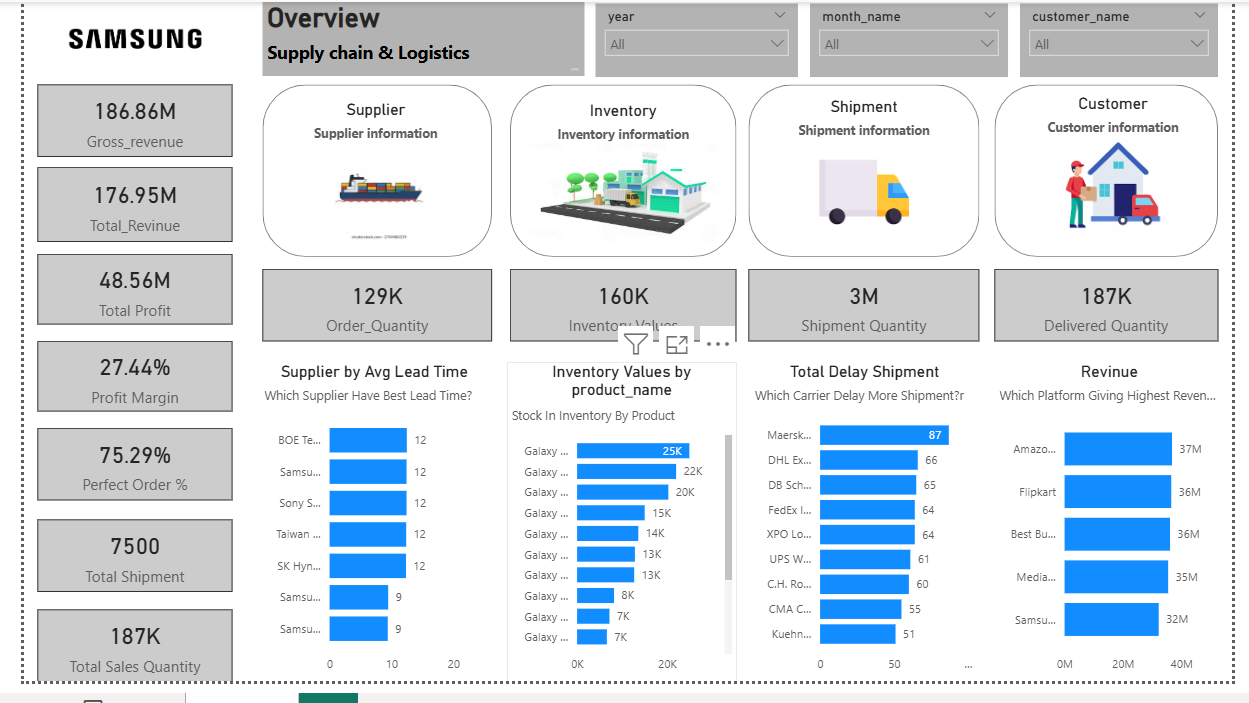

Layout of this report page (visuals, bound fields, positions):
{"tool":"powerbi","page":{"name":"Page 1","canvas":[1280,720],"ordinal":0},"visuals":[{"type":"shape","box":[252.9,87.5,243.4,182.9],"z":0},{"type":"shape","box":[515.4,87.5,240.2,182.9],"z":1000},{"type":"shape","box":[768.3,87.5,245,182.9],"z":2000},{"type":"shape","box":[1029.1,87.5,237,182.9],"z":3000},{"type":"image","box":[278.4,143.2,197.2,114.5],"z":4000},{"type":"image","box":[531.3,143.2,208.4,119.3],"z":5000},{"type":"image","box":[796.9,140,186.1,122.5],"z":6000},{"type":"image","box":[1043.4,133.6,222.7,120.9],"z":7000},{"type":"textbox","box":[157.5,381.7,151.1,36.6],"z":8000},{"type":"textbox","title":"Supplier","box":[279.9,103.4,186.1,42.9],"z":9000},{"type":"textbox","title":"Inventory","box":[547.2,105,176.6,42.9],"z":10000},{"type":"textbox","title":"Shipment","box":[798.5,100.2,184.5,42.9],"z":11000},{"type":"textbox","title":"Customer","box":[1067.3,97,175,42.9],"z":12000},{"type":"textbox","title":"Overview","box":[252.9,0,340.4,77.9],"z":13000},{"type":"image","box":[14.3,0,206.8,77.9],"z":14000},{"type":"card","fields":{"Values":["Sum(fact_sales.gross_revenue)"]},"box":[14.3,87.5,206.8,76.3],"z":15000},{"type":"card","fields":{"Values":["fact_sales.Total_Revinue"]},"box":[14.3,175,206.8,79.5],"z":16000},{"type":"card","fields":{"Values":["fact_sales.Total Profit"]},"box":[14.3,267.2,206.8,74.8],"z":17000},{"type":"card","fields":{"Values":["fact_sales.Profit Margin"]},"box":[14.3,359.5,206.8,74.8],"z":18000},{"type":"card","fields":{"Values":["fact_sales.Perfect Order %"]},"box":[14.3,451.7,206.8,76.3],"z":19000},{"type":"card","fields":{"Values":["fact_sales.Total Shipment"]},"box":[14.3,548.8,206.8,76.3],"z":20000},{"type":"card","fields":{"Values":["fact_sales.Total Sales Quantity"]},"box":[14.3,644.2,206.8,76.3],"z":21000},{"type":"card","fields":{"Values":["fact_sales.Order_Quantity"]},"box":[252.9,283.1,243.4,76.3],"z":22000},{"type":"card","fields":{"Values":["fact_sales.Inventory Values"]},"box":[515.4,283.1,240.2,76.3],"z":23000},{"type":"card","fields":{"Values":["Sum(fact_shipment.quantity)"]},"box":[768.3,283.1,245,76.3],"z":24000},{"type":"card","fields":{"Values":["fact_sales.Total Delivered Quantity"]},"box":[1029.1,283.1,237,76.3],"z":25000},{"type":"clusteredBarChart","title":"Supplier by Avg Lead Time","fields":{"Category":["dim_supplier.supplier_name"],"Y":["fact_sales.Avg Lead Time"]},"box":[249.7,381.7,243.4,338.8],"z":26000},{"type":"clusteredBarChart","fields":{"Y":["fact_sales.Inventory Values"],"Category":["dim_product.product_name"]},"box":[512.2,381.7,243.4,338.8],"z":27000},{"type":"clusteredBarChart","title":"Total Delay Shipment","fields":{"Y":["fact_sales.Total Delay"],"Category":["fact_shipment.carrier"]},"box":[769.9,381.7,243.4,338.8],"z":28000},{"type":"clusteredBarChart","title":"Revinue","fields":{"Category":["dim_customer.customer_name"],"Y":["fact_sales.Total_Revinue"]},"box":[1029.1,381.7,243.4,338.8],"z":29000},{"type":"slicer","fields":{"Values":["dim_date.year"]},"box":[606,1.6,214.7,77.9],"z":30000},{"type":"slicer","fields":{"Values":["dim_date.month_name"]},"box":[833.5,1.6,210,77.9],"z":31000},{"type":"slicer","fields":{"Values":["dim_customer.customer_name"]},"box":[1056.2,1.6,210,77.9],"z":32000}]}

Visuals, with their boxes in screenshot pixels (x1, y1, x2, y2), scaled from the page's 1280x720 canvas onto the 1249x703 screenshot:
shape: l=247, t=85, r=484, b=264
shape: l=503, t=85, r=737, b=264
shape: l=750, t=85, r=989, b=264
shape: l=1004, t=85, r=1235, b=264
image: l=272, t=140, r=464, b=252
image: l=518, t=140, r=722, b=256
image: l=778, t=137, r=959, b=256
image: l=1018, t=130, r=1235, b=248
textbox: l=154, t=373, r=301, b=408
"Supplier" textbox: l=273, t=101, r=455, b=143
"Inventory" textbox: l=534, t=103, r=706, b=144
"Shipment" textbox: l=779, t=98, r=959, b=140
"Customer" textbox: l=1041, t=95, r=1212, b=137
"Overview" textbox: l=247, t=0, r=579, b=76
image: l=14, t=0, r=216, b=76
card - Sum(fact_sales.gross_revenue): l=14, t=85, r=216, b=160
card - fact_sales.Total_Revinue: l=14, t=171, r=216, b=248
card - fact_sales.Total Profit: l=14, t=261, r=216, b=334
card - fact_sales.Profit Margin: l=14, t=351, r=216, b=424
card - fact_sales.Perfect Order %: l=14, t=441, r=216, b=516
card - fact_sales.Total Shipment: l=14, t=536, r=216, b=610
card - fact_sales.Total Sales Quantity: l=14, t=629, r=216, b=702
card - fact_sales.Order_Quantity: l=247, t=276, r=484, b=351
card - fact_sales.Inventory Values: l=503, t=276, r=737, b=351
card - Sum(fact_shipment.quantity): l=750, t=276, r=989, b=351
card - fact_sales.Total Delivered Quantity: l=1004, t=276, r=1235, b=351
"Supplier by Avg Lead Time" clusteredBarChart: l=244, t=373, r=481, b=702
clusteredBarChart - fact_sales.Inventory Values x dim_product.product_name: l=500, t=373, r=737, b=702
"Total Delay Shipment" clusteredBarChart: l=751, t=373, r=989, b=702
"Revinue" clusteredBarChart: l=1004, t=373, r=1242, b=702
slicer - dim_date.year: l=591, t=2, r=801, b=78
slicer - dim_date.month_name: l=813, t=2, r=1018, b=78
slicer - dim_customer.customer_name: l=1031, t=2, r=1236, b=78
